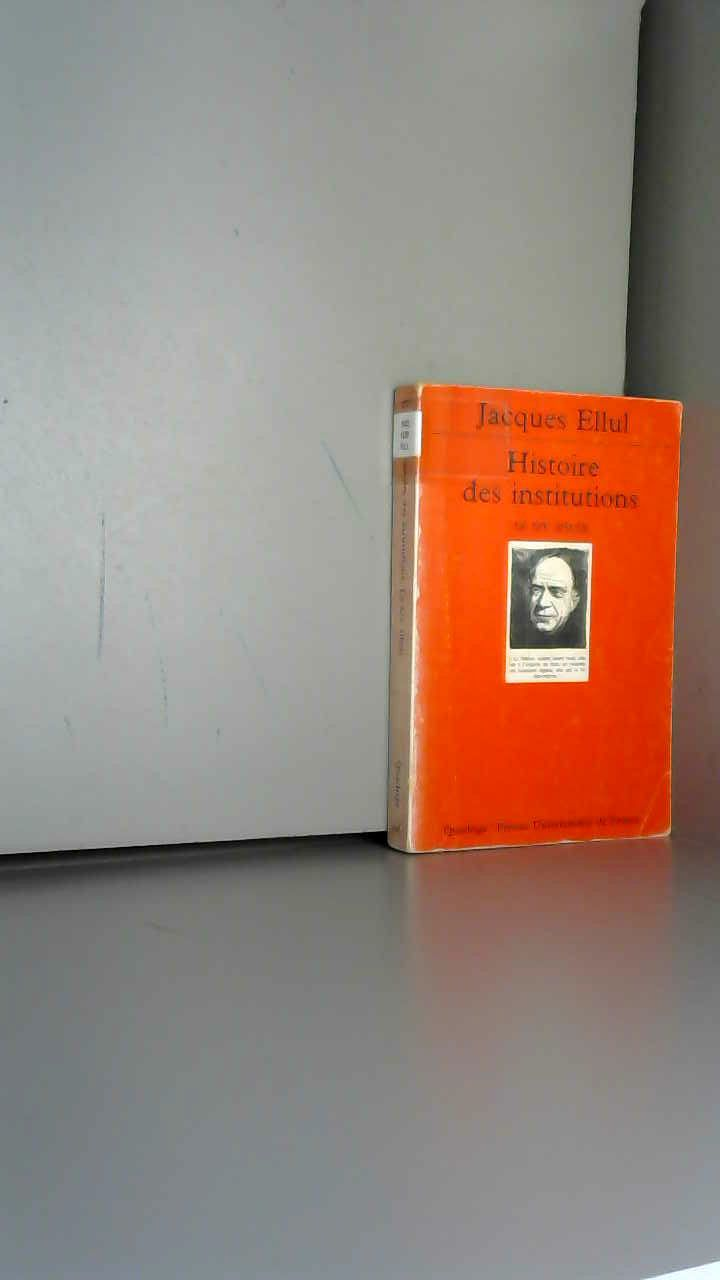book: (380, 360, 717, 883)
